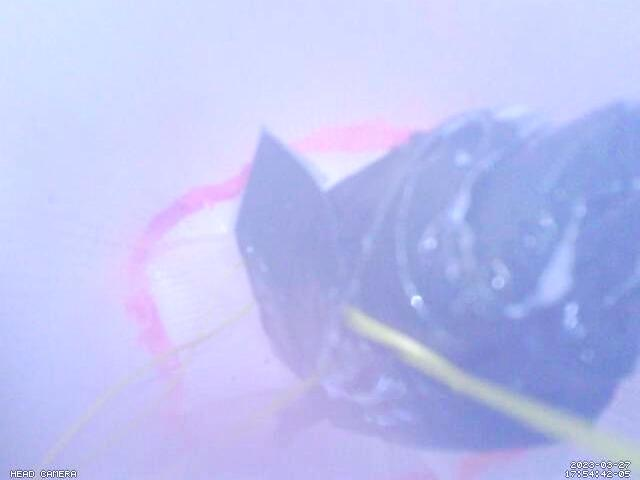head: (124, 115, 527, 480)
